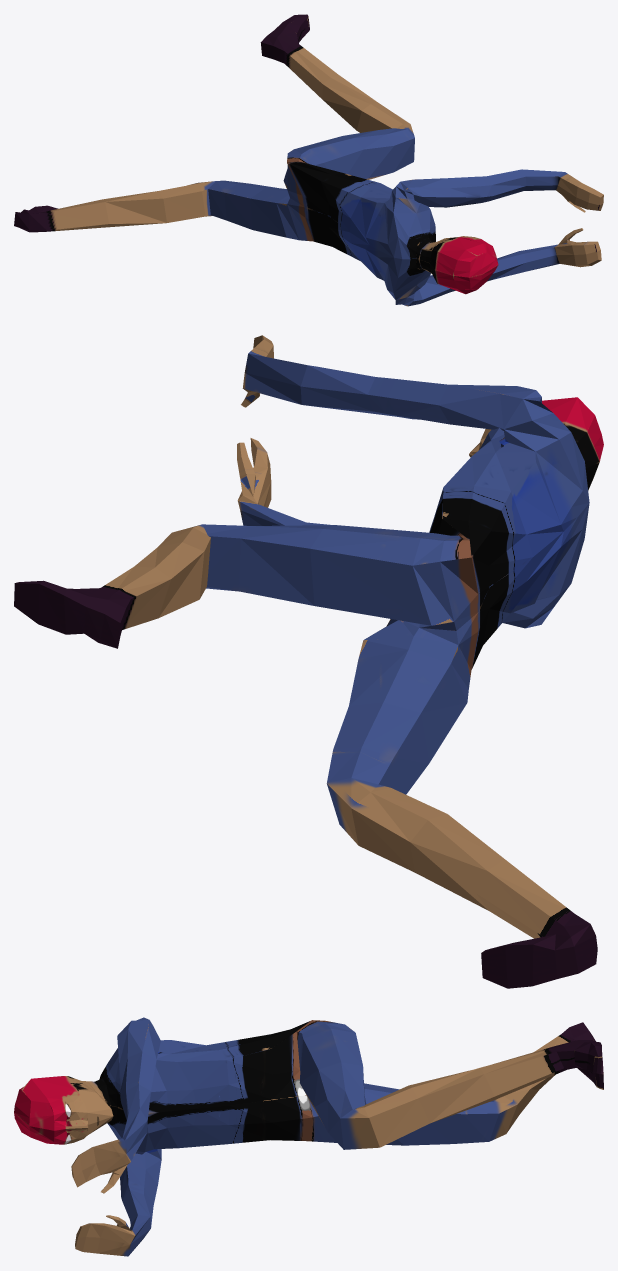
The model's file is mirrorman_000019.obj.
3 renders of one model, top to bottom at view 1: azimuth 30°, elevation 25°; view 2: azimuth 150°, elevation 25°; view 3: azimuth 270°, elevation 25°, orthographic. The views are drawn at different scales.
Parts seen in each view (by area): view 1: mirrorman_Cube.001_Material.001; view 2: mirrorman_Cube.001_Material.001; view 3: mirrorman_Cube.001_Material.001.
Part boxes in pixels (x1,y1,x2,y2): mirrorman_Cube.001_Material.001: (14,14,603,306); mirrorman_Cube.001_Material.001: (14,335,603,988); mirrorman_Cube.001_Material.001: (14,1017,603,1256).
Bounding box in the file's own units: 1.42 × 0.5393 × 1.5.
1 material, 1 textured.
